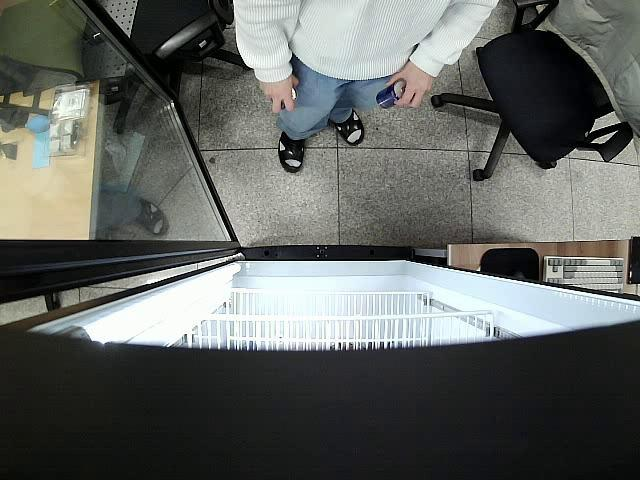16_hot6: (375, 79, 406, 109)
